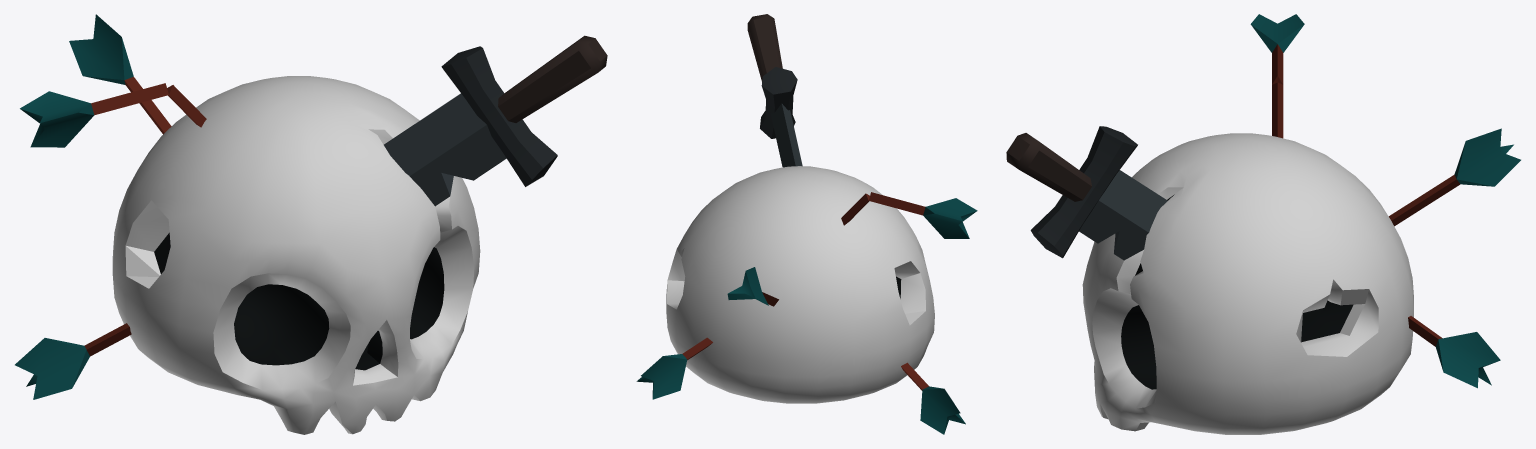
File: Head03.fbx
3 views of the same model, side by side, from view 1: azimuth 30°, elevation 25°; view 2: azimuth 150°, elevation 25°; view 3: azimuth 270°, elevation 25° (orthographic). The views are drawn at different scales.
Parts seen in each view (by area): view 1: Head03; view 2: Head03; view 3: Head03.
Boxes of the visible parts, x1,y1,x2,y2 form: Head03: (15,14,607,434); Head03: (636,14,977,434); Head03: (1006,14,1520,434).
Size of the model in its own units: 130 by 108 by 142.
